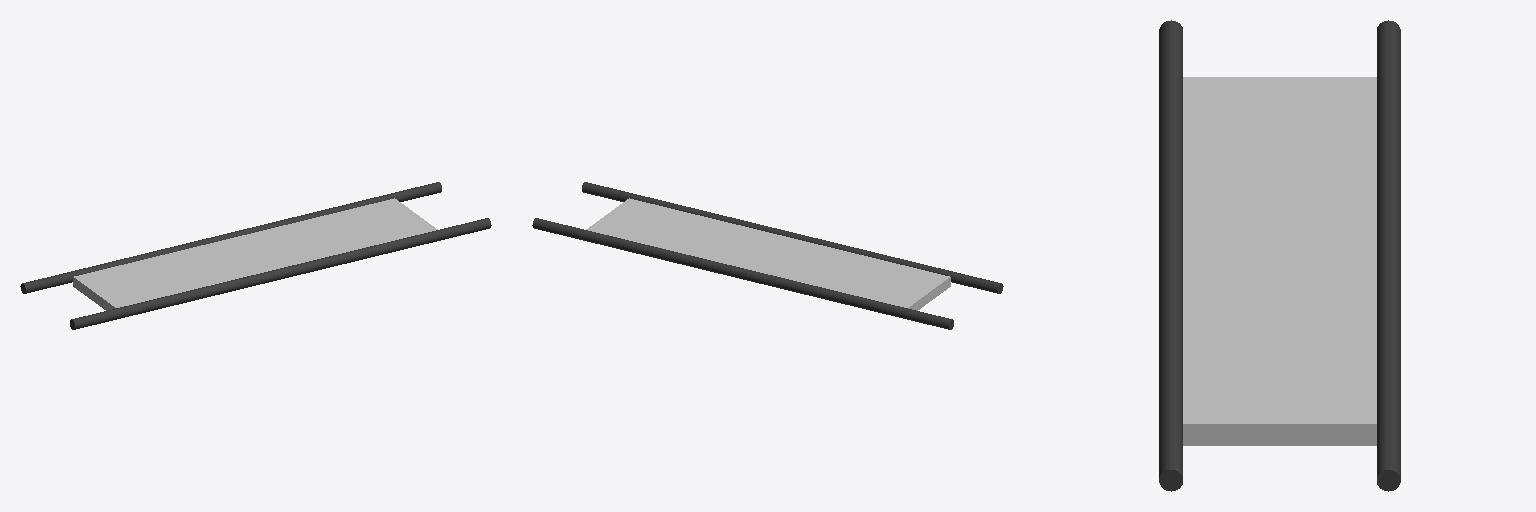
The robot description file, URDF, robot "stretcher":
<?xml version="1.0" ?>
<!-- =================================================================================== -->
<!-- |    This document was autogenerated by xacro from stretcher.xacro                | -->
<!-- |    EDITING THIS FILE BY HAND IS NOT RECOMMENDED                                 | -->
<!-- =================================================================================== -->
<robot name="stretcher" xmlns:xacro="http://www.ros.org/wiki/xacro">
  <link name="base_link">
    <visual>
      <geometry>
        <box size="1.7 0.4 0.05"/>
      </geometry>
      <material name="light gray">
        <color rgba=".8 .8 .8 1"/>
      </material>
    </visual>
  </link>
  <link name="right_handle">
    <visual>
      <geometry>
        <cylinder length="2.2" radius="0.025"/>
      </geometry>
      <origin rpy="0 1.5707963268 0" xyz="0 0 0"/>
      <material name="dark gray">
        <color rgba=".3 .3 .3 1"/>
      </material>
    </visual>
  </link>
  <joint name="base_to_right_handle" type="fixed">
    <parent link="base_link"/>
    <child link="right_handle"/>
    <origin xyz="0 0.225 0.0125"/>
  </joint>
  <link name="left_handle">
    <visual>
      <geometry>
        <cylinder length="2.2" radius="0.025"/>
      </geometry>
      <origin rpy="0 1.5707963268 0" xyz="0 0 0"/>
      <material name="dark gray">
        <color rgba=".3 .3 .3 1"/>
      </material>
    </visual>
  </link>
  <joint name="base_to_left_handle" type="fixed">
    <parent link="base_link"/>
    <child link="left_handle"/>
    <origin xyz="0 -0.225 0.0125"/>
  </joint>
</robot>

--- What the picture shows (computed from the rendered views, not written in the file) ---
Views: 3 orthographic renders of the robot side by side, from view 1: azimuth 30°, elevation 25°; view 2: azimuth 150°, elevation 25°; view 3: azimuth 270°, elevation 25°.
Model stretcher with 3 links and 2 joints (2 fixed), rooted at base_link, posed every joint at zero.
Links seen in each view (by area): view 1: base_link, left_handle, right_handle; view 2: base_link, right_handle, left_handle; view 3: base_link, right_handle, left_handle.
Link boxes in pixels (x1,y1,x2,y2): base_link: (73,198,437,310); left_handle: (70,218,491,329); right_handle: (20,182,441,293); base_link: (586,198,950,310); right_handle: (532,218,953,329); left_handle: (582,182,1003,293); base_link: (1183,77,1376,445); right_handle: (1377,20,1400,491); left_handle: (1159,20,1182,491).
Size in the robot's own frame: 2.2 by 0.5 by 0.0625 metres.
Geometry: primitives only (box / cylinder / sphere), no mesh files.